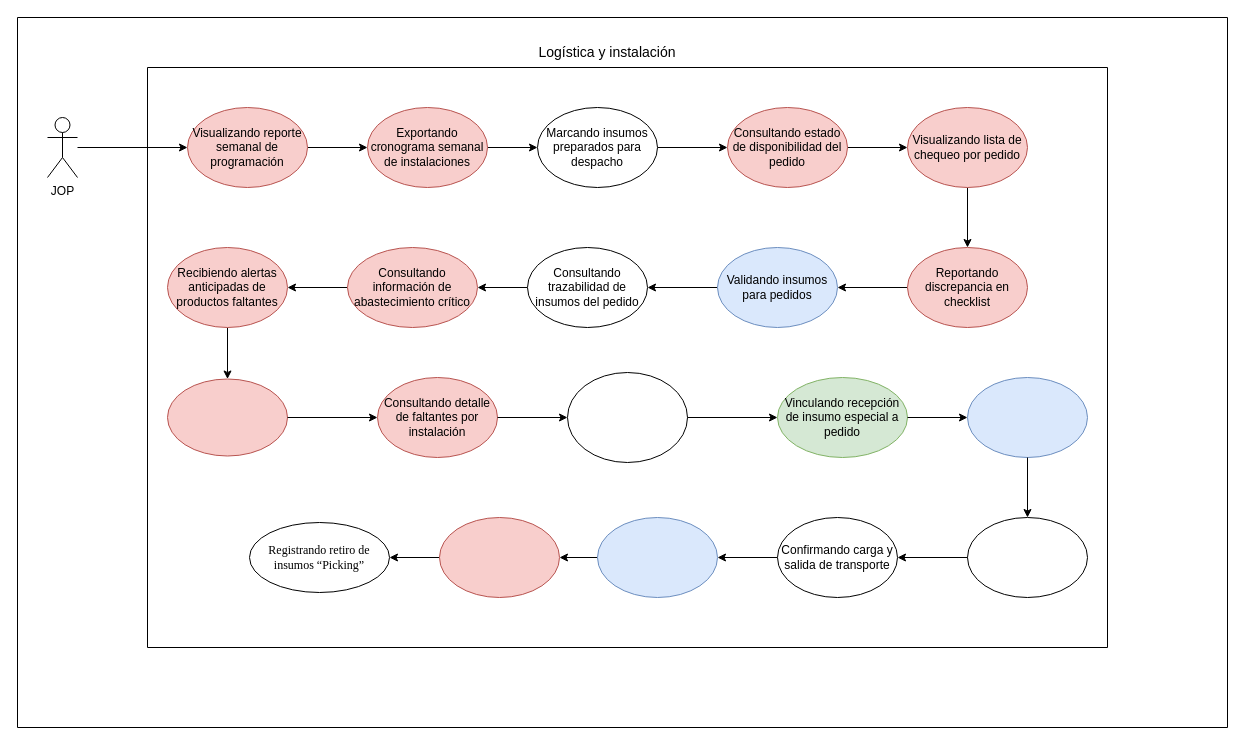
Image size: 1245x745. Some labels were removed from this diagram. The shapes that lost their labels are listed below. From the top down, each one's centre as x and y in pixels, then its label:
point (227, 417): Generando solicitud de compra de emergencia
point (627, 417): Vinculando insumos a pedido de instalación
point (1027, 417): Reservando stock para instalación confirmada
point (499, 557): Resolviendo o descartando alerta de faltante
point (657, 557): Ejecutando verificación automótica de viabilidad
point (1027, 557): Controlando la carga en transporte
